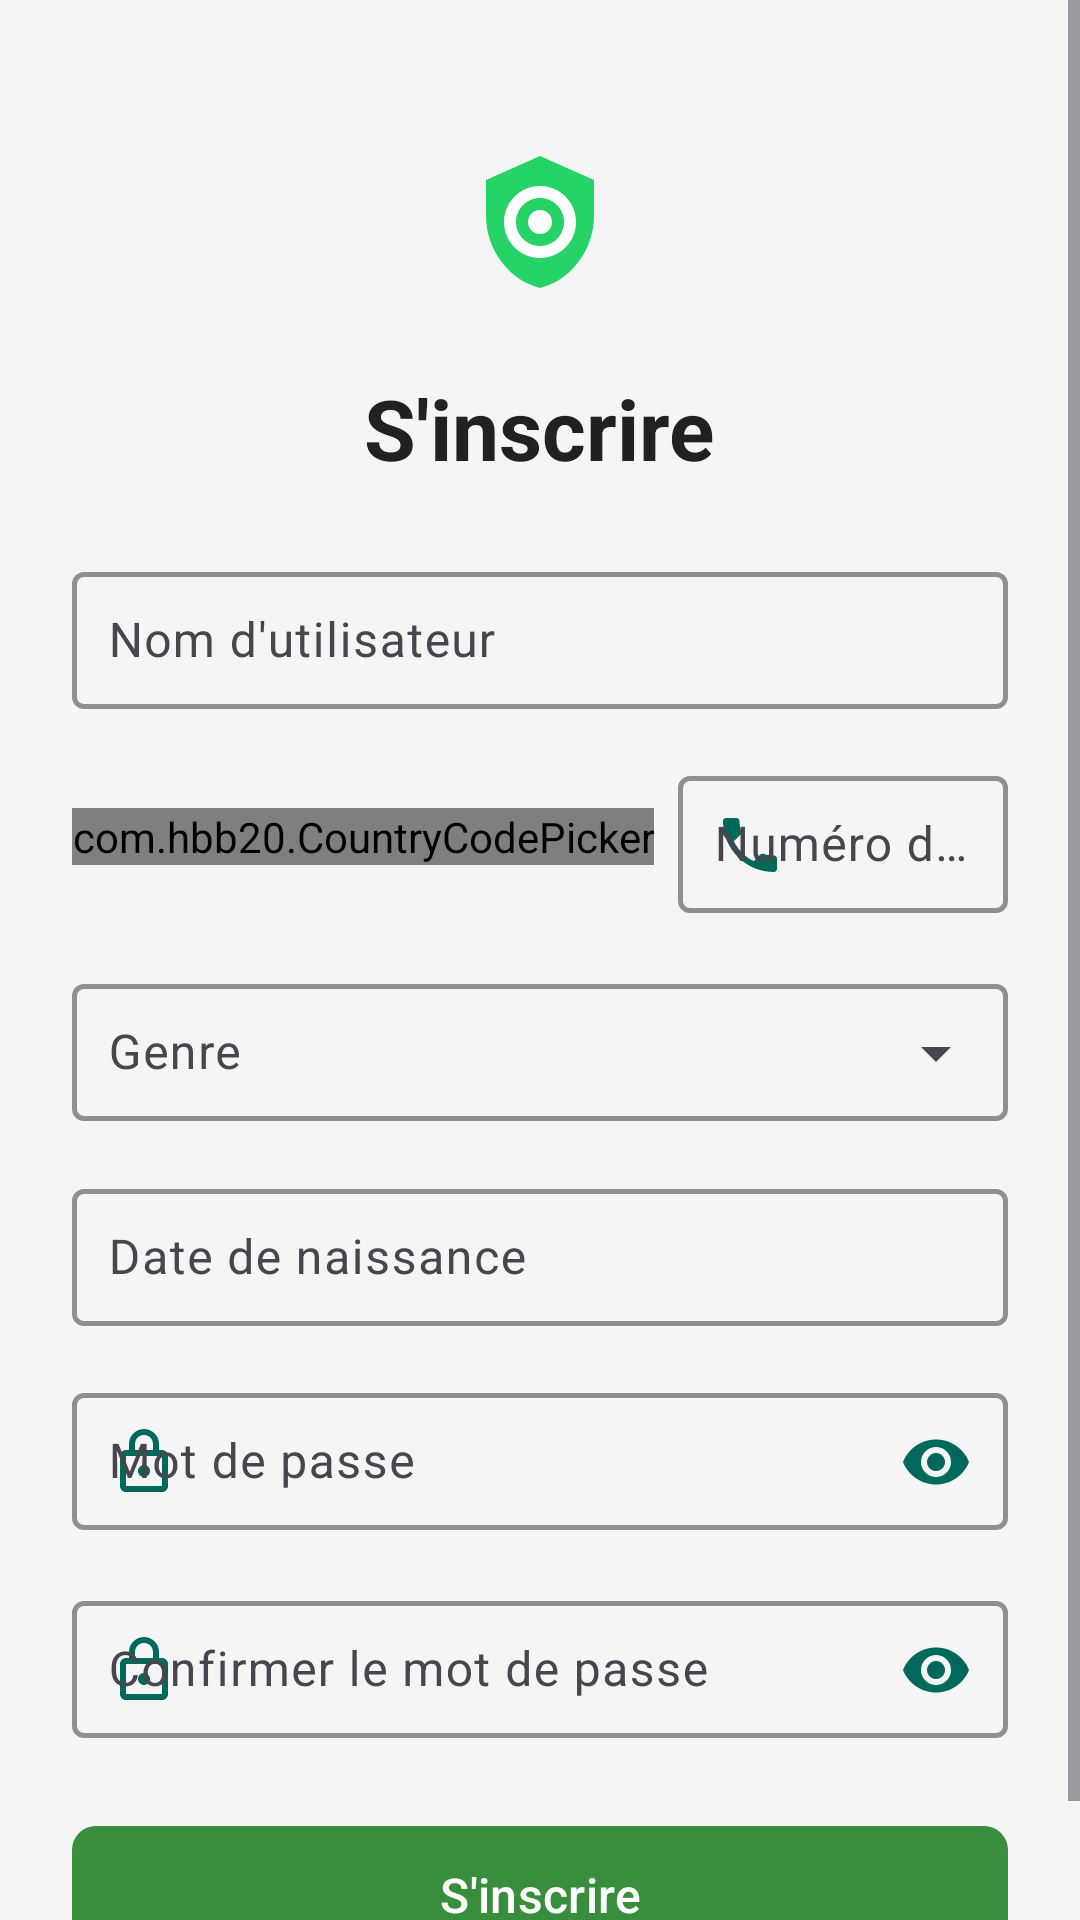

Where icons sit on this 1080px x 1920px app screen, as (x1,y1,x2,y2):
icône de l'application: (486,156,594,288)
